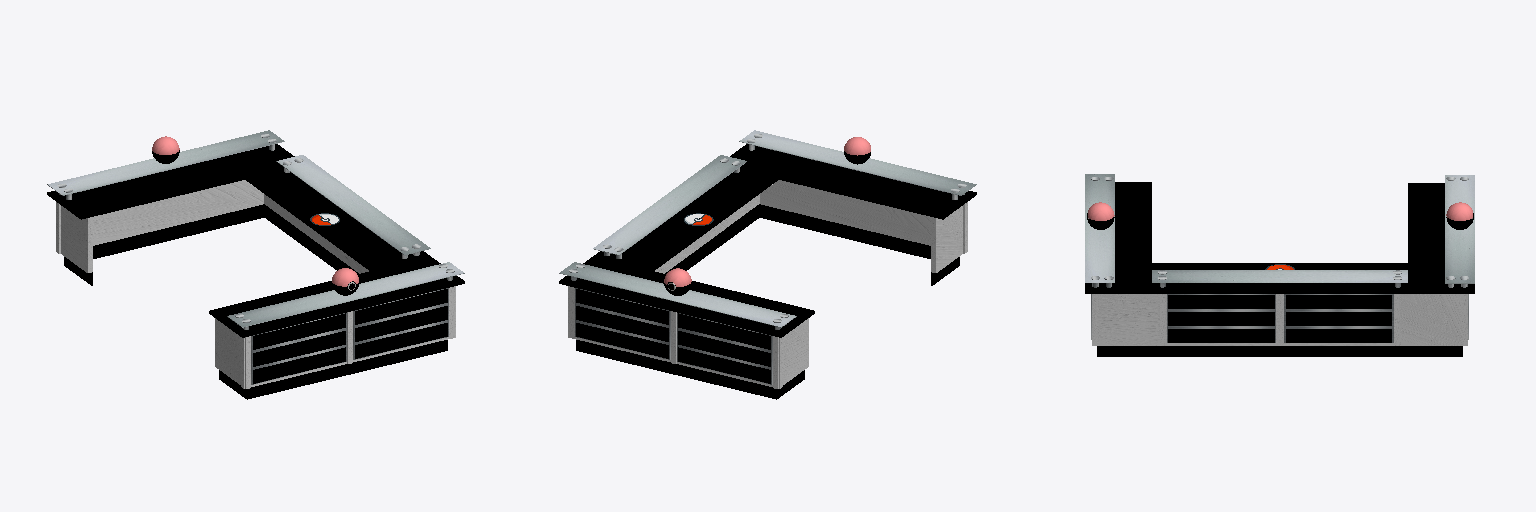
3 views of the same model, side by side, from view 1: azimuth 30°, elevation 25°; view 2: azimuth 150°, elevation 25°; view 3: azimuth 270°, elevation 25° (orthographic).
Visible parts, largest first — view 1: pasted__Meshgroup1, pasted__Meshgroup, Mesh, recepcion_group2pasted__pSphere2; view 2: pasted__Meshgroup, pasted__Meshgroup1, Mesh, recepcion_pSphere2; view 3: Mesh, pasted__Meshgroup1, pasted__Meshgroup, recepcion_group2pasted__pSphere2, recepcion_pSphere2.
Boxes of the visible parts, box(x1,y1,x2,y2) form: pasted__Meshgroup1: box(209, 257, 464, 399); pasted__Meshgroup: box(47, 130, 296, 285); Mesh: box(245, 155, 430, 273); recepcion_group2pasted__pSphere2: box(152, 136, 179, 163); pasted__Meshgroup: box(559, 257, 814, 399); pasted__Meshgroup1: box(725, 130, 976, 285); Mesh: box(593, 155, 778, 273); recepcion_pSphere2: box(844, 137, 870, 164); Mesh: box(1152, 263, 1407, 356); pasted__Meshgroup1: box(1085, 174, 1163, 356); pasted__Meshgroup: box(1395, 175, 1474, 356); recepcion_group2pasted__pSphere2: box(1446, 202, 1472, 229); recepcion_pSphere2: box(1088, 202, 1114, 229).
Size of the model in its own units: 4.67 by 2.1 by 7.09.
Materials: 24 (7 with a texture image).